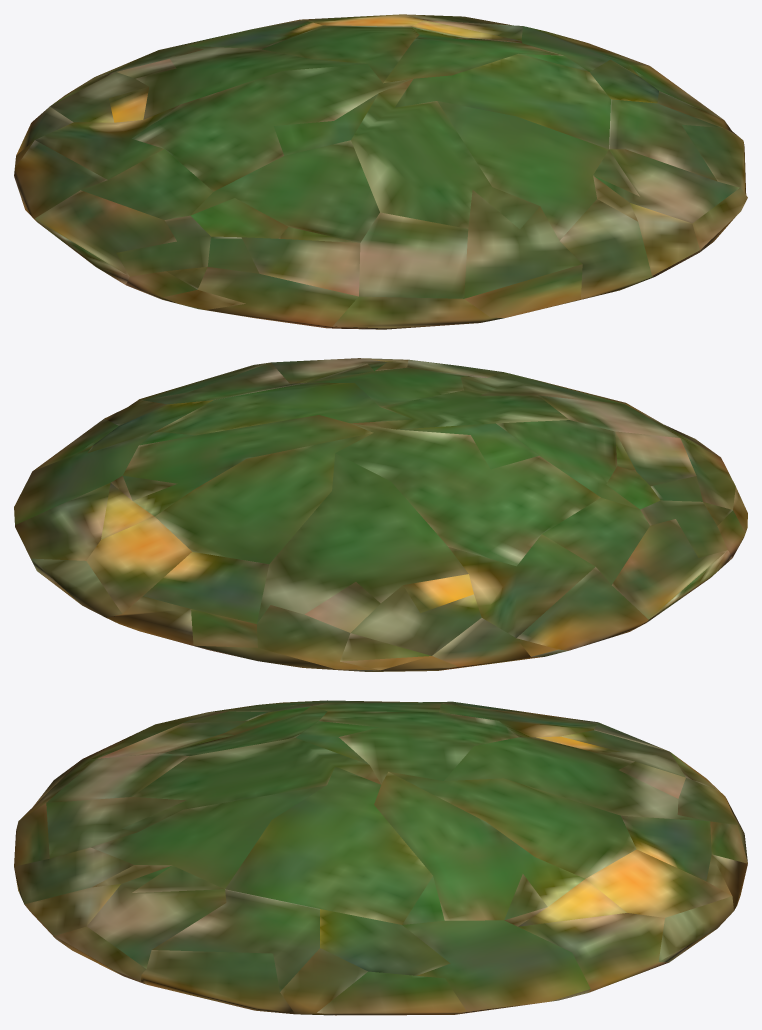
File: Hill.lod2.glb
The picture shows the model from 3 angles, top to bottom: view 1: azimuth 30°, elevation 25°; view 2: azimuth 150°, elevation 25°; view 3: azimuth 270°, elevation 25°; orthographic projection. The views are drawn at different scales.
Size of the model in its own units: 7.99 by 1.2 by 8.
Materials: 1 (1 with a texture image).
